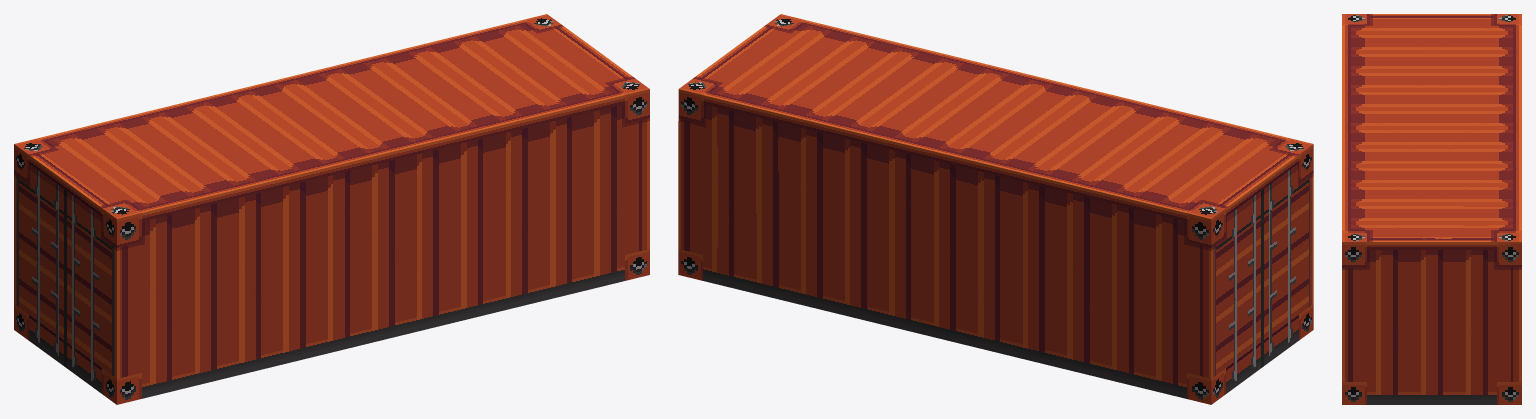
The model's file is Shipping_Container.glb.
3 renders of one model, left to right at view 1: azimuth 30°, elevation 25°; view 2: azimuth 150°, elevation 25°; view 3: azimuth 270°, elevation 25°, orthographic. The views are drawn at different scales.
Visible parts, largest first — view 1: node_id4; view 2: node_id4; view 3: node_id4.
Part boxes in pixels (x1=…): node_id4: x1=14, y1=14, x2=649, y2=404; node_id4: x1=678, y1=14, x2=1313, y2=404; node_id4: x1=1342, y1=14, x2=1521, y2=404.
Size of the model in its own units: 0.512 by 0.1706 by 0.1706.
Materials: 1 (1 with a texture image).
